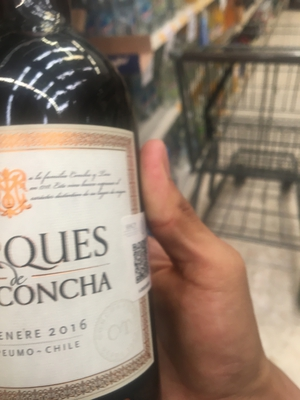marques de casa concha carmenere: (3, 28, 188, 400)
